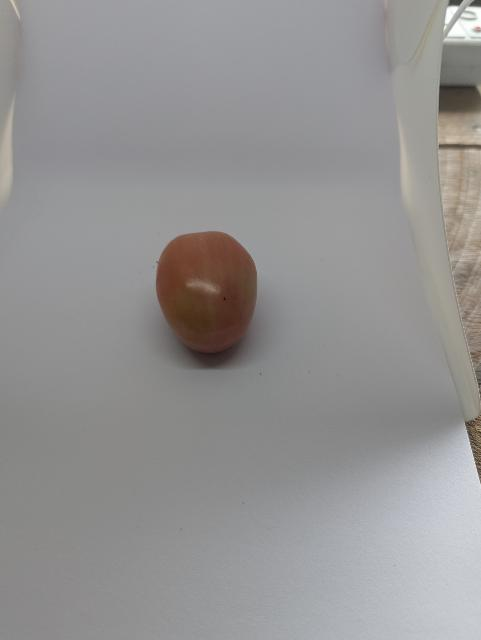turning: (149, 227, 263, 360)
